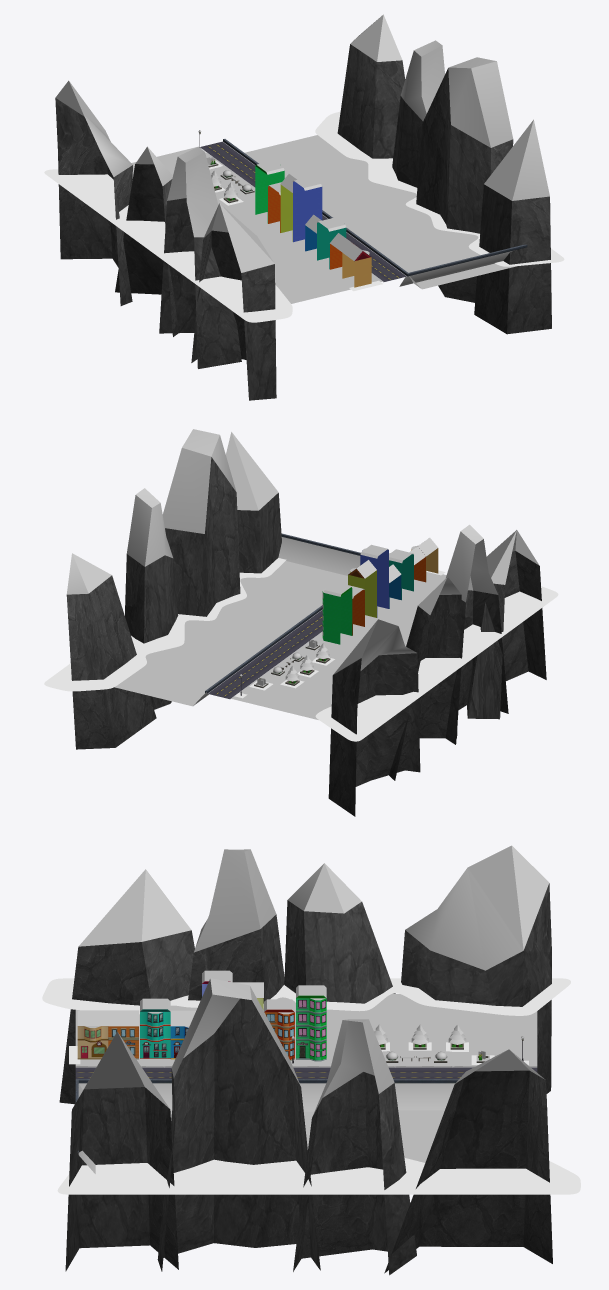
The model's file is citywinter_07.fbx.
3 views of the same model, one above another, from view 1: azimuth 30°, elevation 25°; view 2: azimuth 150°, elevation 25°; view 3: azimuth 270°, elevation 25° (orthographic). The views are drawn at different scales.
Parts seen in each view (by area): view 1: City_07; view 2: City_07; view 3: City_07.
Boxes of the visible parts, x1,y1,x2,y2 form: City_07: [44, 14, 564, 400]; City_07: [44, 429, 558, 816]; City_07: [42, 845, 580, 1275].
Bounding box in the file's own units: 22617 × 13384 × 25170.
